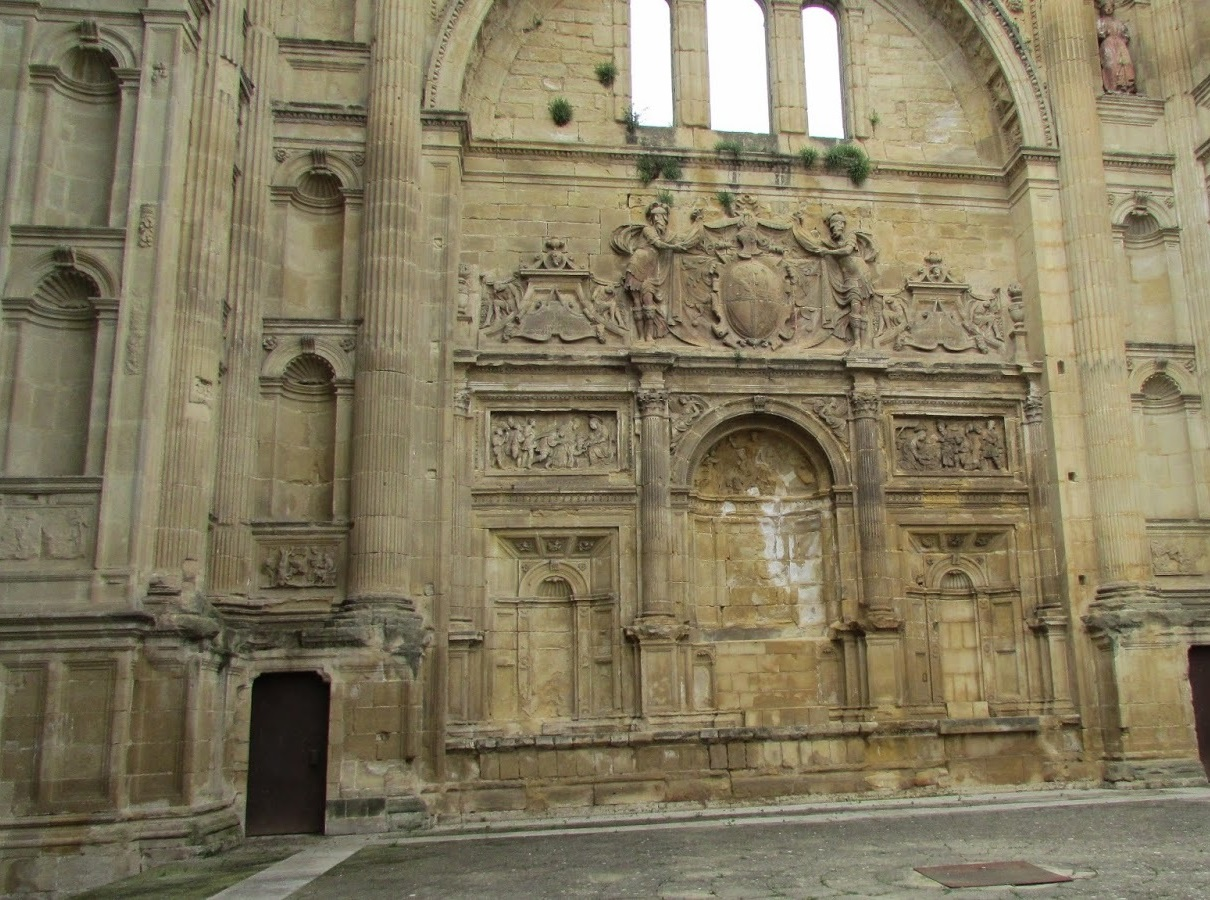serliana: (467, 381, 1039, 736)
